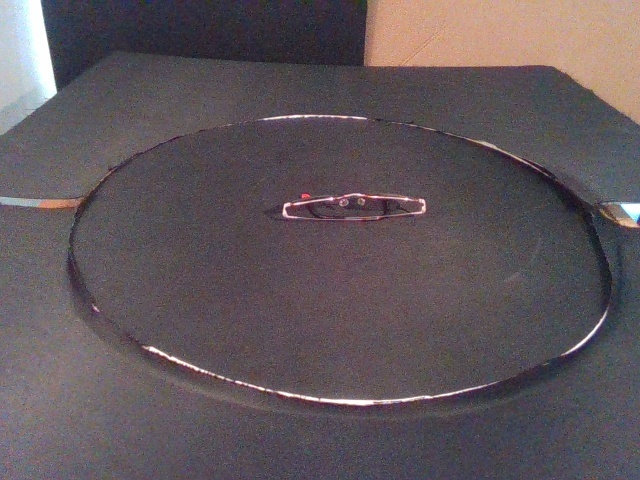glasses: (280, 190, 429, 224)
